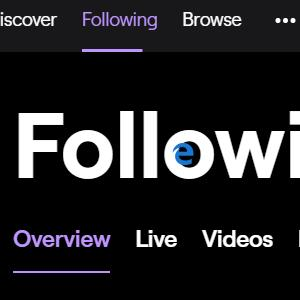edge: (173, 143, 193, 165)
